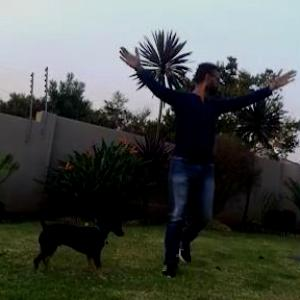takeoff: (112, 41, 299, 279)
